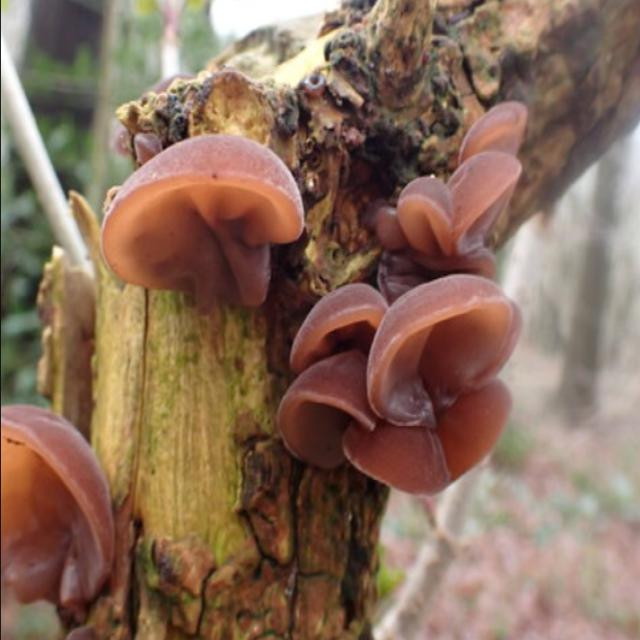Fase Muda: (278, 93, 534, 497), (100, 121, 306, 323), (0, 394, 123, 613)
